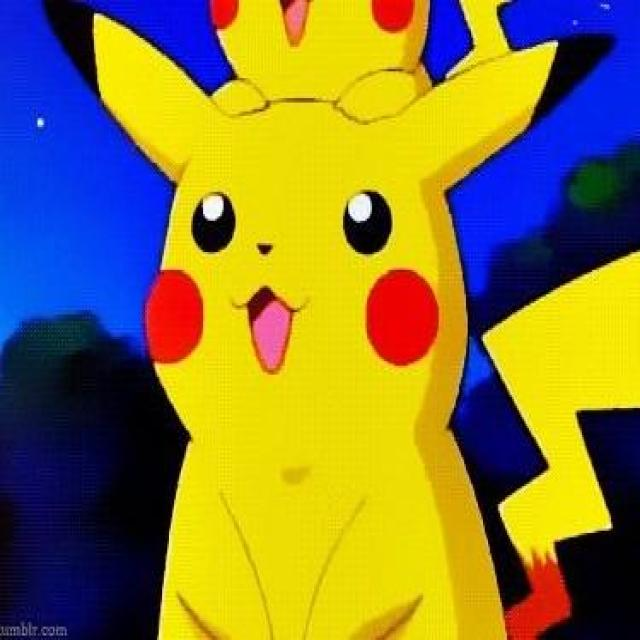pikachu: (43, 0, 640, 640)
